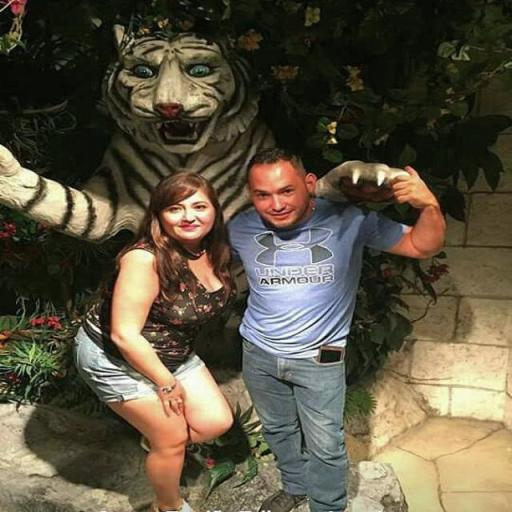Under Armour: (251, 227, 338, 286)
